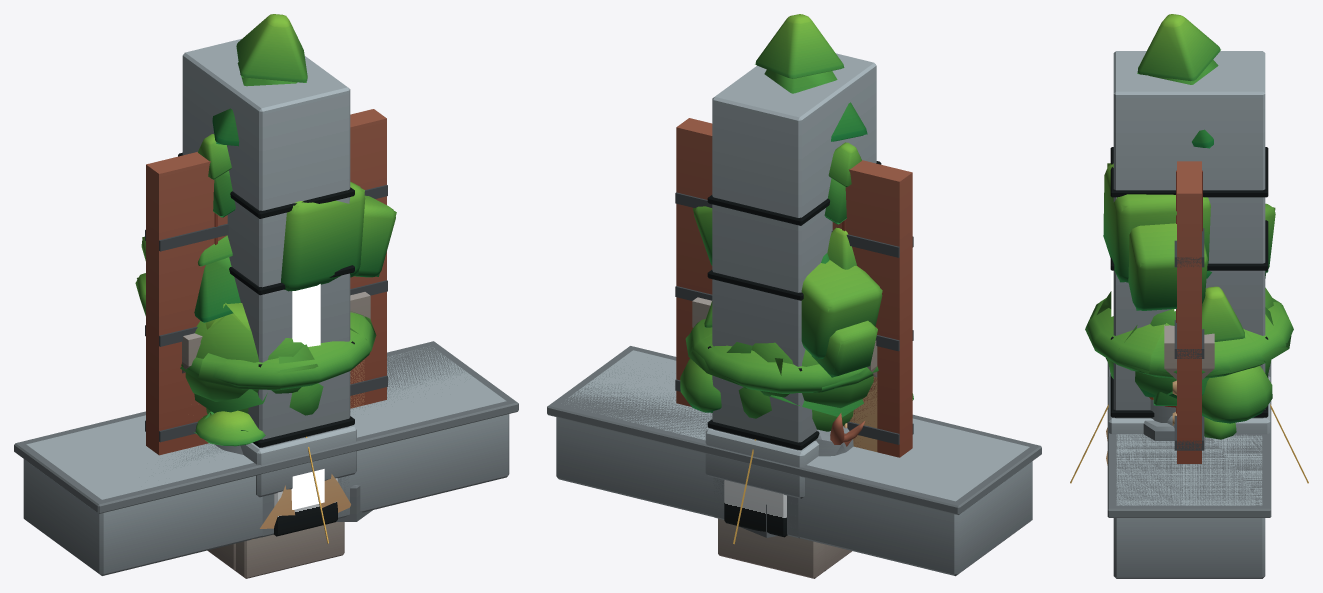
The model's file is world.glb.
The picture shows the model from 3 angles, left to right: view 1: azimuth 30°, elevation 25°; view 2: azimuth 150°, elevation 25°; view 3: azimuth 270°, elevation 25°; orthographic projection. The views are drawn at different scales.
Parts seen in each view (by area): view 1: GateLintel, GatePillar, GateDoor, TreeForestC, TreeForestD, TreeMeadowC, Well, TreeMeadowB, TreeMeadowC_LOD, Tent, TreeMeadowB_LOD, RuinWall (+1 smaller); view 2: GateLintel, GatePillar, GateDoor, TreeForestD, TreeForestC, TreeMeadowC, Well, TreeMeadowB, RuinWall, TreeMeadowA, TreeMeadowC_LOD; view 3: GatePillar, GateLintel, TreeForestD, GateDoor, TreeForestC, TreeMeadowC, TreeMeadowB, TreeMeadowC_LOD, TreeMeadowA, RuinWall, CragB, Tent.
Part boxes in pixels (x1,y1,x2,y2): GateLintel: [14, 341, 518, 575]; GatePillar: [178, 38, 356, 537]; GateDoor: [145, 109, 387, 455]; TreeForestC: [194, 14, 307, 321]; TreeForestD: [135, 181, 395, 315]; TreeMeadowC: [181, 312, 373, 446]; Well: [207, 522, 344, 578]; TreeMeadowB: [185, 313, 304, 401]; TreeMeadowC_LOD: [180, 311, 376, 445]; Tent: [252, 436, 350, 543]; TreeMeadowB_LOD: [194, 303, 267, 413]; RuinWall: [182, 292, 370, 407]; GateLintel: [547, 346, 1041, 576]; GatePillar: [705, 53, 881, 538]; GateDoor: [675, 118, 913, 457]; TreeForestD: [693, 206, 882, 376]; TreeForestC: [704, 14, 867, 327]; TreeMeadowC: [691, 319, 913, 398]; Well: [718, 518, 852, 578]; TreeMeadowB: [680, 342, 873, 412]; RuinWall: [692, 297, 877, 451]; TreeMeadowA: [738, 387, 853, 431]; TreeMeadowC_LOD: [685, 322, 913, 400]; GatePillar: [1108, 51, 1270, 434]; GateLintel: [1107, 361, 1271, 578]; TreeForestD: [1103, 163, 1275, 310]; GateDoor: [1174, 161, 1204, 463]; TreeForestC: [1137, 14, 1244, 395]; TreeMeadowC: [1085, 298, 1293, 378]; TreeMeadowB: [1105, 287, 1273, 423]; TreeMeadowC_LOD: [1089, 298, 1291, 377]; TreeMeadowA: [1107, 359, 1271, 439]; RuinWall: [1164, 324, 1214, 425]; CragB: [1143, 399, 1175, 440]; Tent: [1070, 404, 1308, 483].
Size of the model in its own units: 9.24 by 11.24 by 4.72.
Materials: 2 (2 with a texture image).
